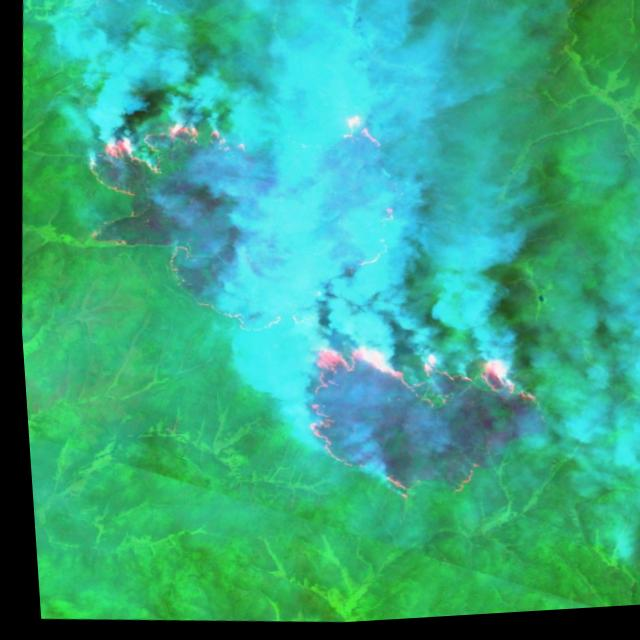fire: (93, 91, 416, 352), (279, 331, 547, 520)
